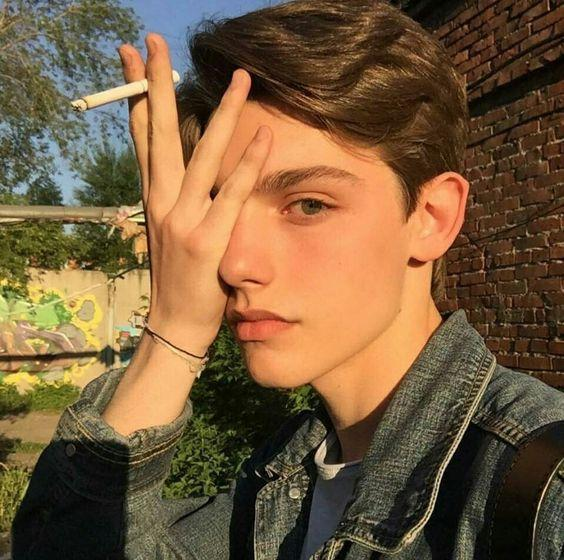cigarette: (70, 69, 180, 112)
